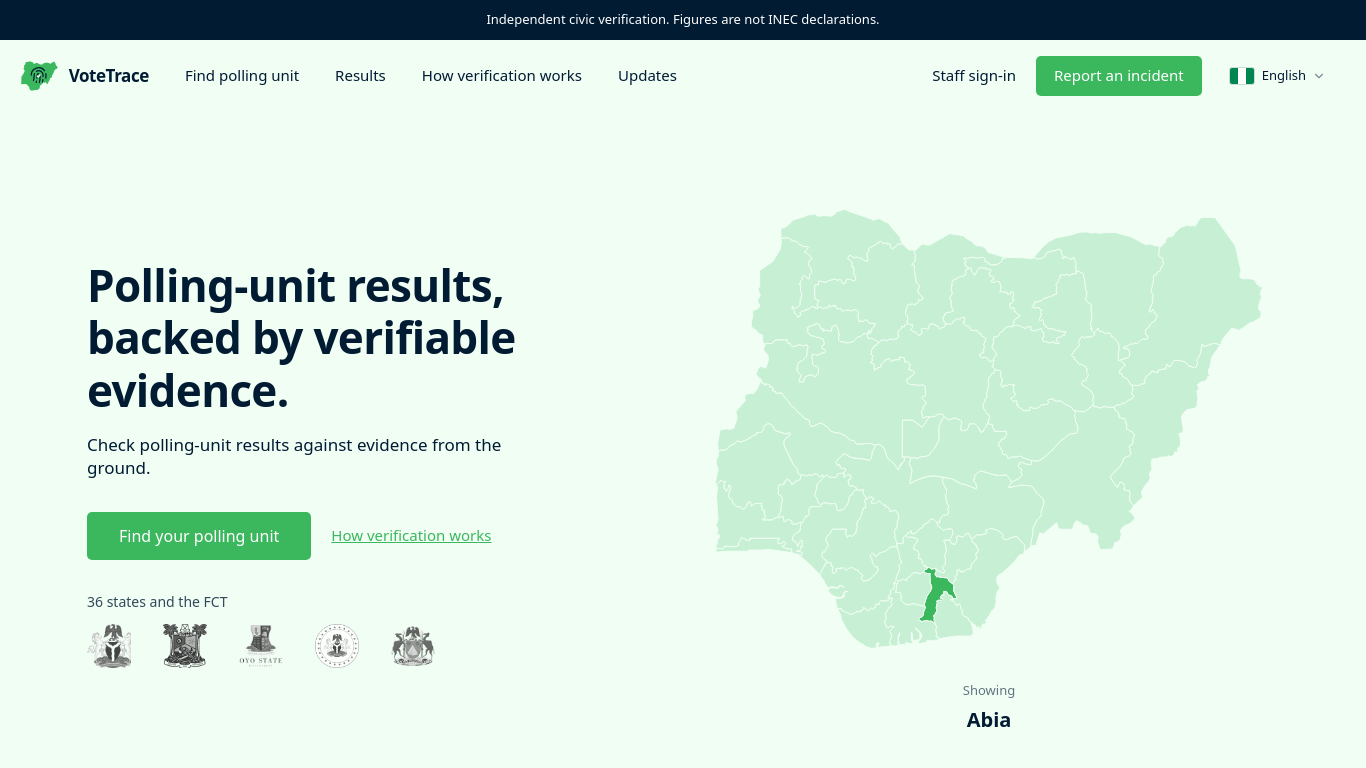
Test: language switcher › offers the translated languages and switches the page copy
Select "Yoruba (Yorùbá)" in the dropdown named "Choose language": (1294,76) 1262,66 -> 1326,85
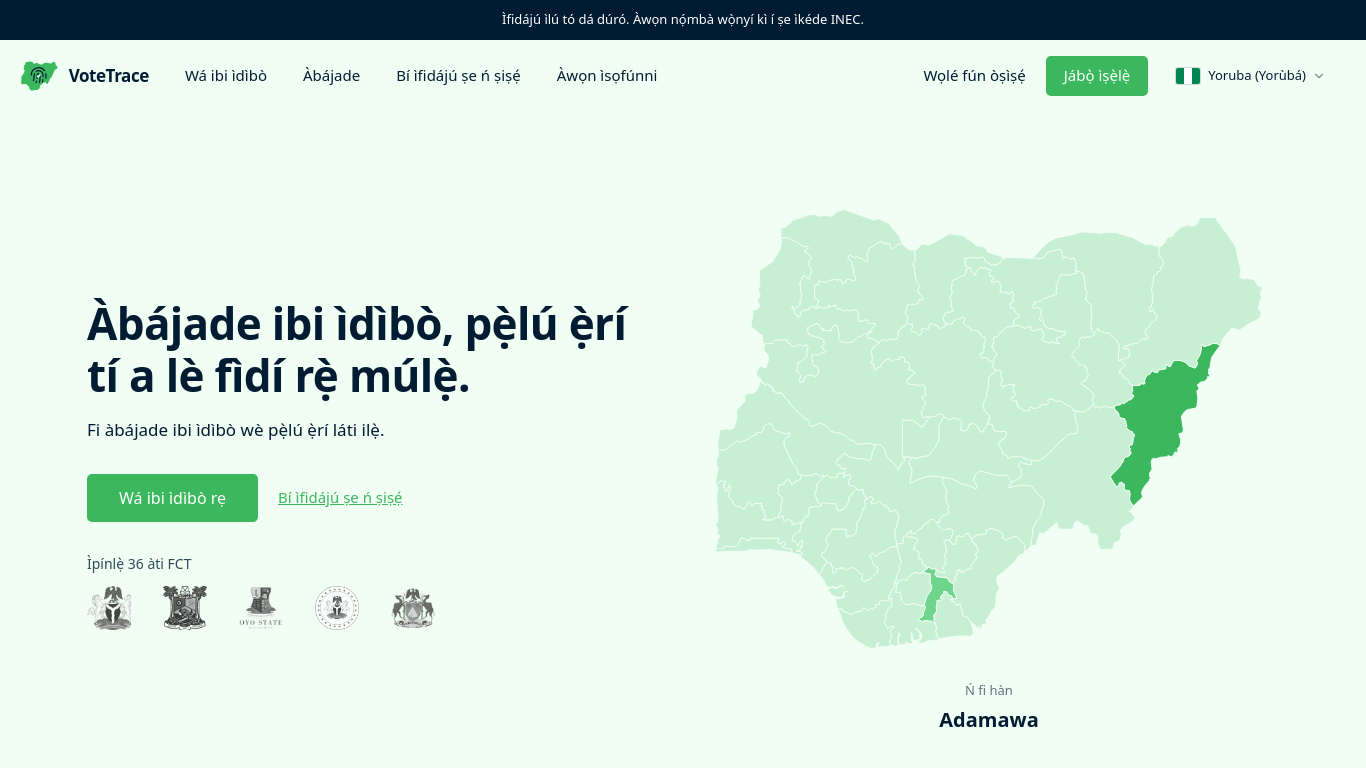
Expected: the link "Wọlé fún òṣìṣẹ́" is shown, 923,64 -> 1026,87
Expected: the heading reads "Àbájade ibi ìdìbò, pẹ̀lú ẹ̀rí tí a lè fìdí rẹ̀ múlẹ̀.", 87,293 -> 626,405
